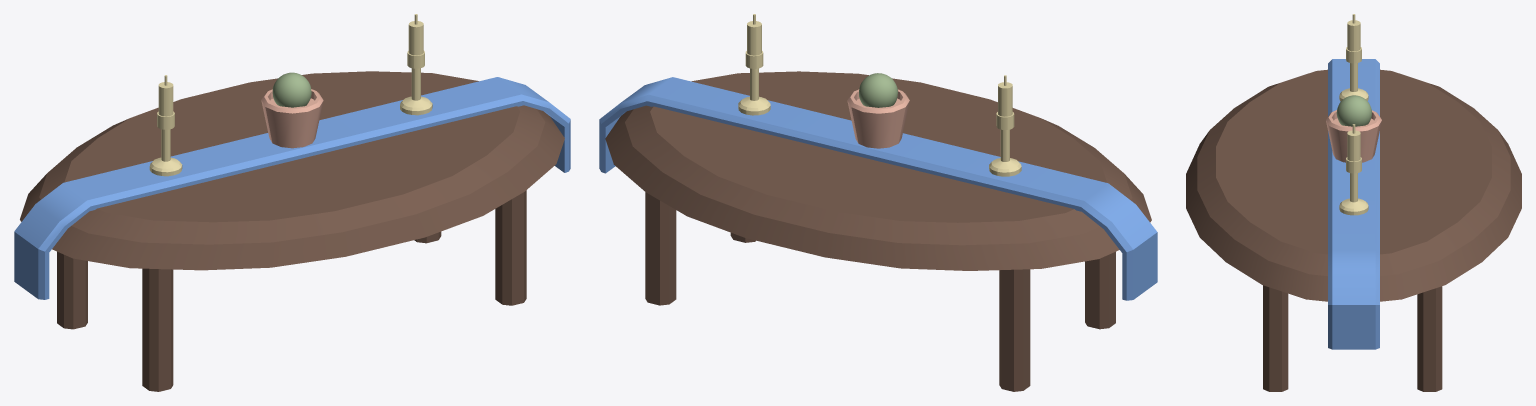
File: geo_HighBreakfastTable_01.fbx
3 views of the same model, side by side, from view 1: azimuth 30°, elevation 25°; view 2: azimuth 150°, elevation 25°; view 3: azimuth 270°, elevation 25° (orthographic). The views are drawn at different scales.
Parts seen in each view (by area): view 1: geo_tableTop_01, geo_tableRunner_01, geo_tableLeg_02, geo_tableLeg_04, geo_PlantContainer_01, geo_tableLeg_01, geo_candleTableTop_06, geo_candleTableTop_07, geo_plantShrub_02; view 2: geo_tableTop_01, geo_tableRunner_01, geo_tableLeg_01, geo_tableLeg_03, geo_PlantContainer_01, geo_tableLeg_02, geo_candleTableTop_06, geo_candleTableTop_07, geo_plantShrub_02; view 3: geo_tableTop_01, geo_tableRunner_01, geo_tableLeg_04, geo_tableLeg_03, geo_PlantContainer_01, geo_candleTableTop_07, geo_candleTableTop_06, geo_plantShrub_02.
Part boxes in pixels (x1=…): geo_tableTop_01: x1=20, y1=71, x2=564, y2=270; geo_tableRunner_01: x1=14, y1=77, x2=570, y2=299; geo_tableLeg_02: x1=142, y1=268, x2=173, y2=391; geo_tableLeg_04: x1=495, y1=190, x2=526, y2=305; geo_PlantContainer_01: x1=261, y1=89, x2=323, y2=148; geo_tableLeg_01: x1=57, y1=251, x2=87, y2=329; geo_candleTableTop_06: x1=149, y1=75, x2=182, y2=176; geo_candleTableTop_07: x1=400, y1=14, x2=432, y2=115; geo_plantShrub_02: x1=272, y1=72, x2=311, y2=107; geo_tableTop_01: x1=605, y1=71, x2=1151, y2=270; geo_tableRunner_01: x1=599, y1=77, x2=1157, y2=300; geo_tableLeg_01: x1=999, y1=269, x2=1030, y2=391; geo_tableLeg_03: x1=645, y1=192, x2=676, y2=305; geo_PlantContainer_01: x1=847, y1=89, x2=909, y2=148; geo_tableLeg_02: x1=1085, y1=251, x2=1115, y2=329; geo_candleTableTop_06: x1=989, y1=75, x2=1021, y2=176; geo_candleTableTop_07: x1=738, y1=14, x2=770, y2=115; geo_plantShrub_02: x1=859, y1=73, x2=897, y2=107; geo_tableTop_01: x1=1186, y1=69, x2=1521, y2=301; geo_tableRunner_01: x1=1328, y1=59, x2=1379, y2=349; geo_tableLeg_04: x1=1263, y1=285, x2=1288, y2=391; geo_tableLeg_03: x1=1417, y1=286, x2=1442, y2=391; geo_PlantContainer_01: x1=1326, y1=110, x2=1381, y2=162; geo_candleTableTop_07: x1=1339, y1=124, x2=1368, y2=215; geo_candleTableTop_06: x1=1339, y1=14, x2=1368, y2=101; geo_plantShrub_02: x1=1336, y1=95, x2=1371, y2=126.
Size of the model in its own units: 159 by 75.53 by 96.02.
